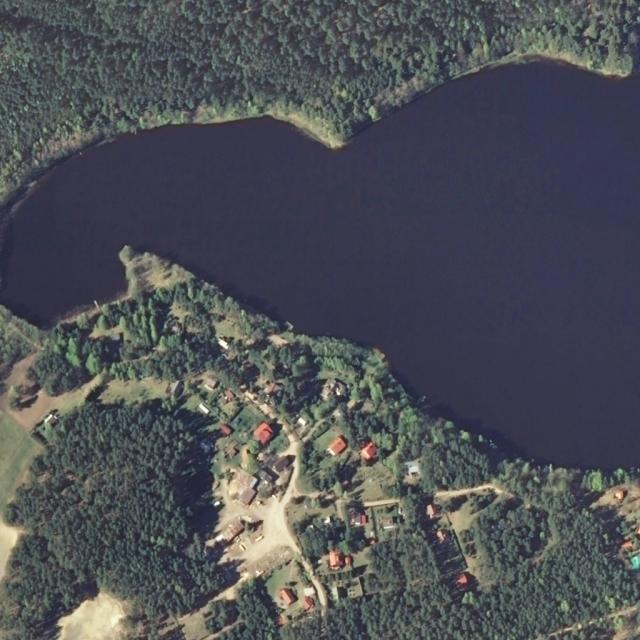building: (63, 298, 448, 606), (0, 284, 178, 333), (254, 550, 327, 628), (318, 549, 371, 604), (235, 291, 265, 317), (178, 274, 207, 287)
dryland: (236, 511, 264, 536)
greenland: (0, 308, 514, 508), (321, 531, 466, 640), (46, 541, 101, 613)
